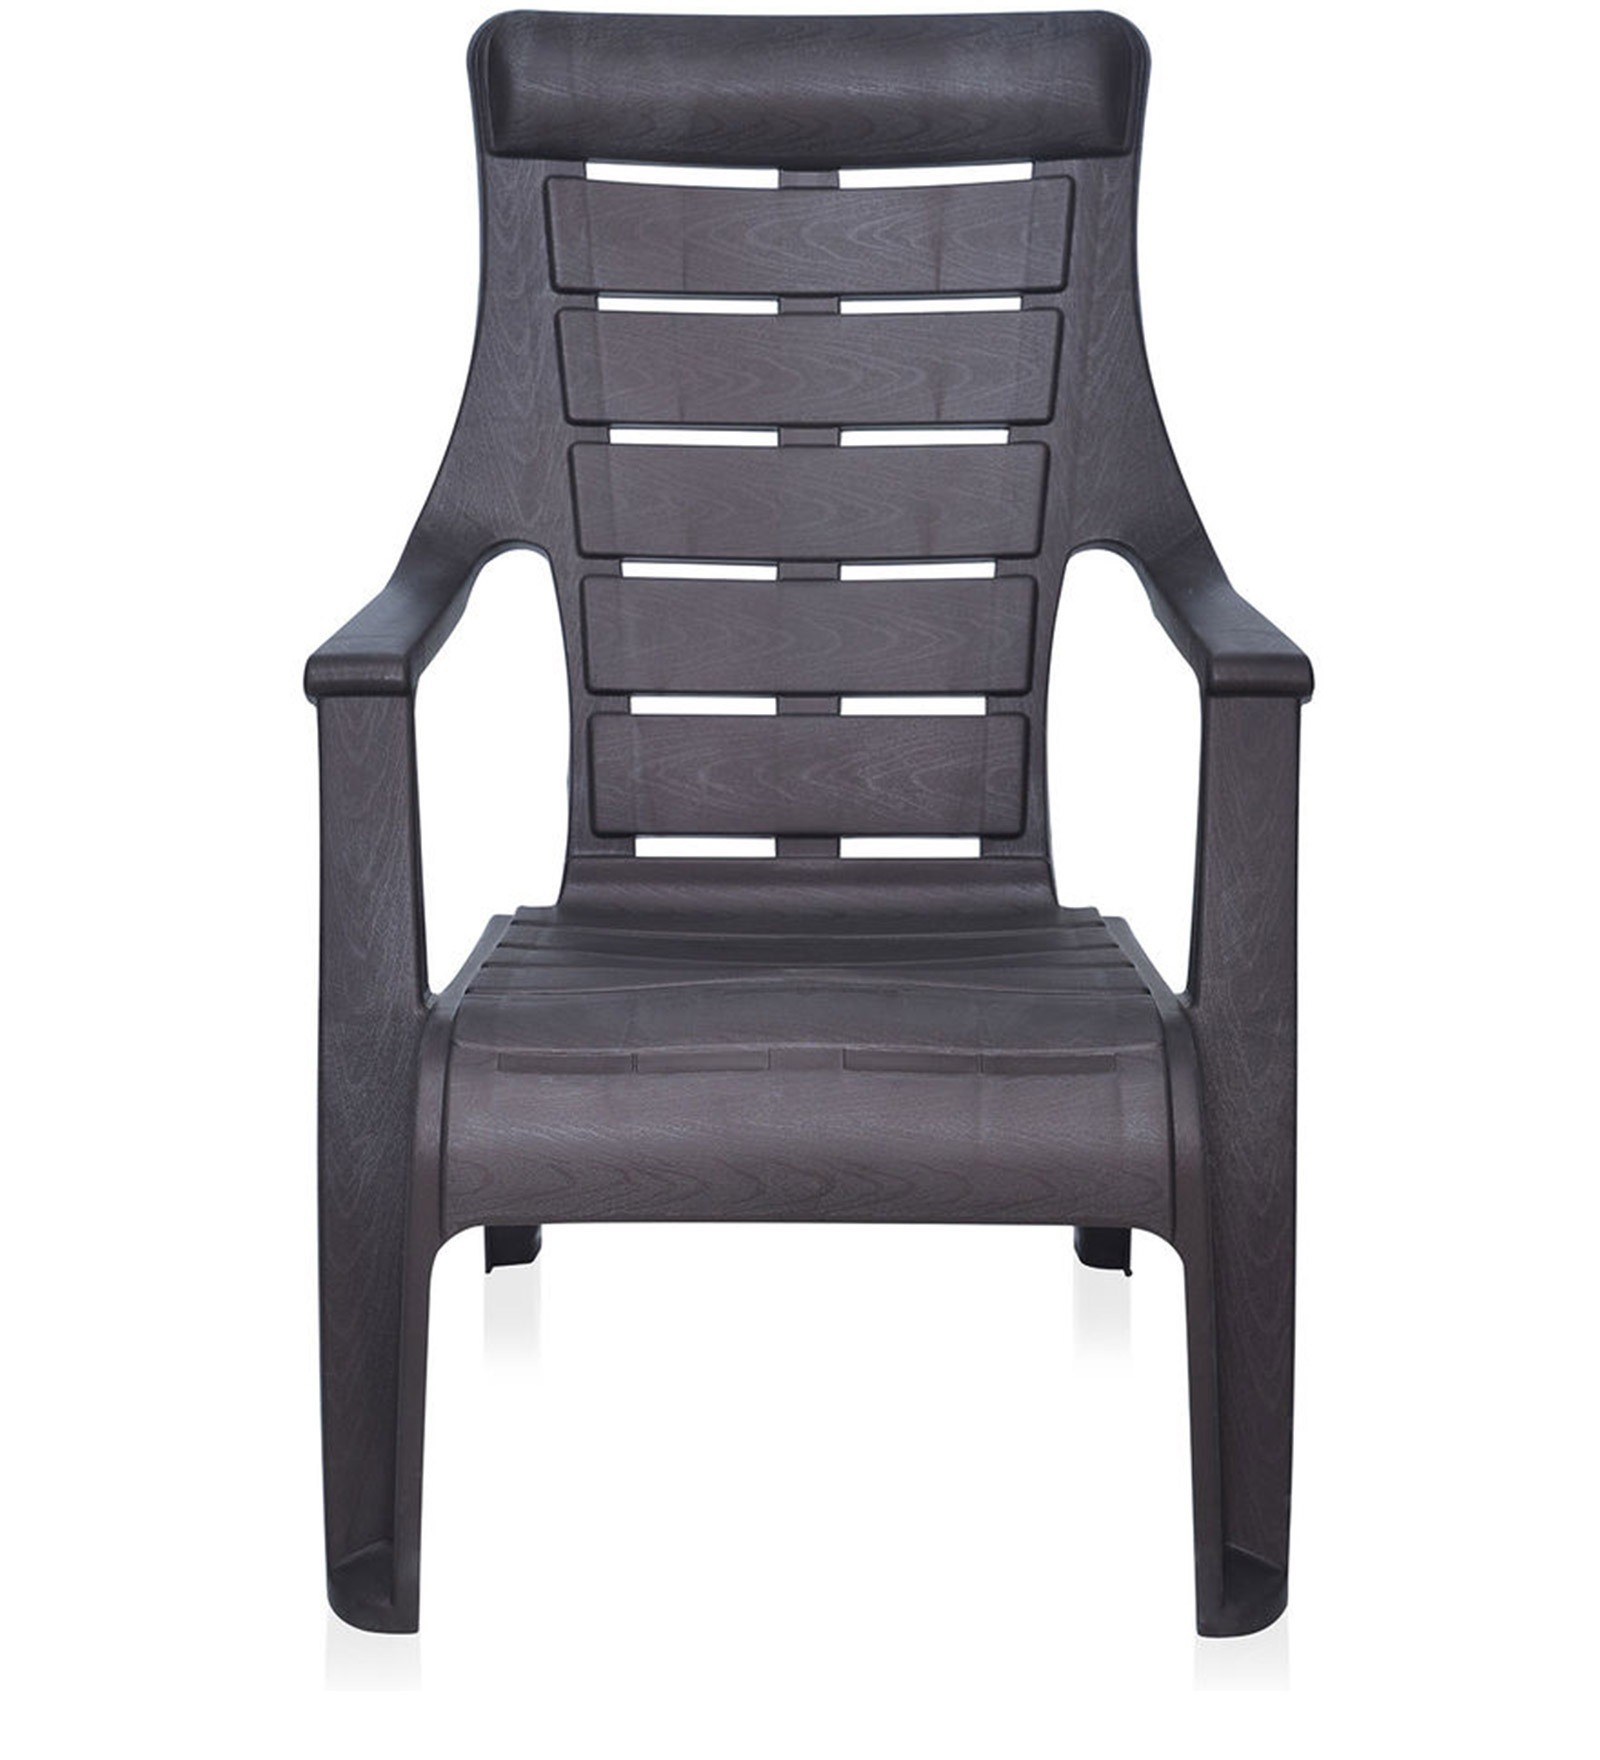Sunday Leisure Chair Set of 2 in Dark Brown Colour by Nilkamal: (236, 12, 1421, 1689)
